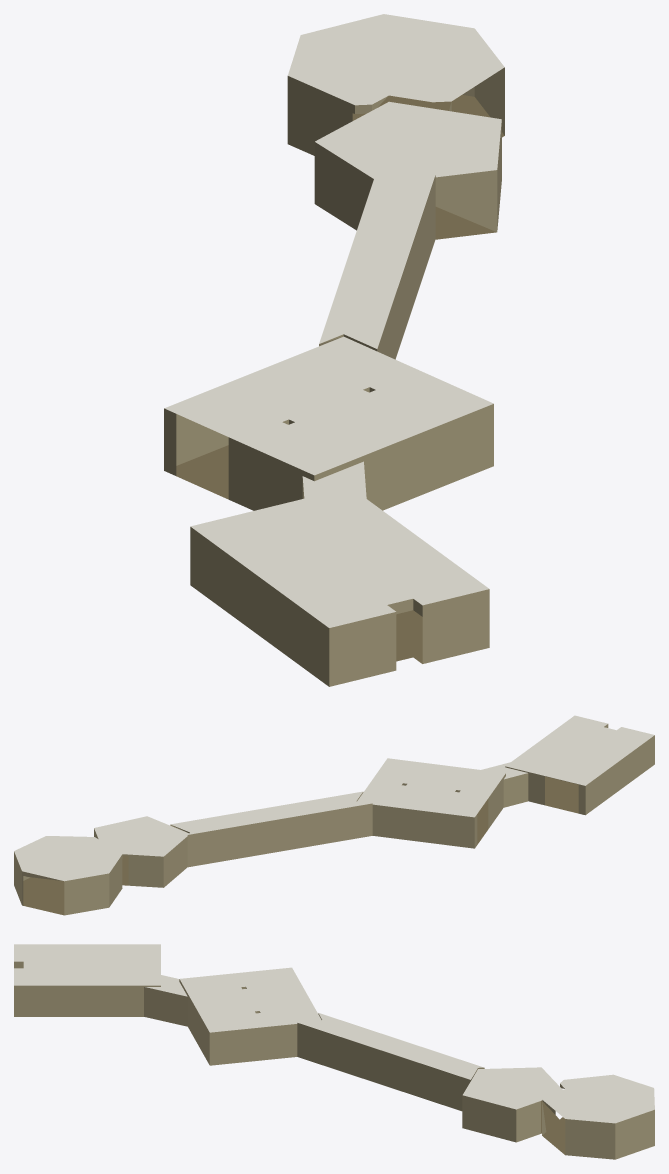
Rendered from slice0.glb.
The picture shows the model from 3 angles, top to bottom: view 1: azimuth 30°, elevation 25°; view 2: azimuth 150°, elevation 25°; view 3: azimuth 270°, elevation 25°; orthographic projection. The views are drawn at different scales.
Visible parts, largest first — view 1: slice0; view 2: slice0; view 3: slice0.
Boxes of the visible parts, bbox=[...] form: slice0: bbox=[164, 14, 504, 686]; slice0: bbox=[14, 715, 654, 915]; slice0: bbox=[14, 944, 654, 1159].
Size of the model in its own units: 35.58 by 3.26 by 52.29.
